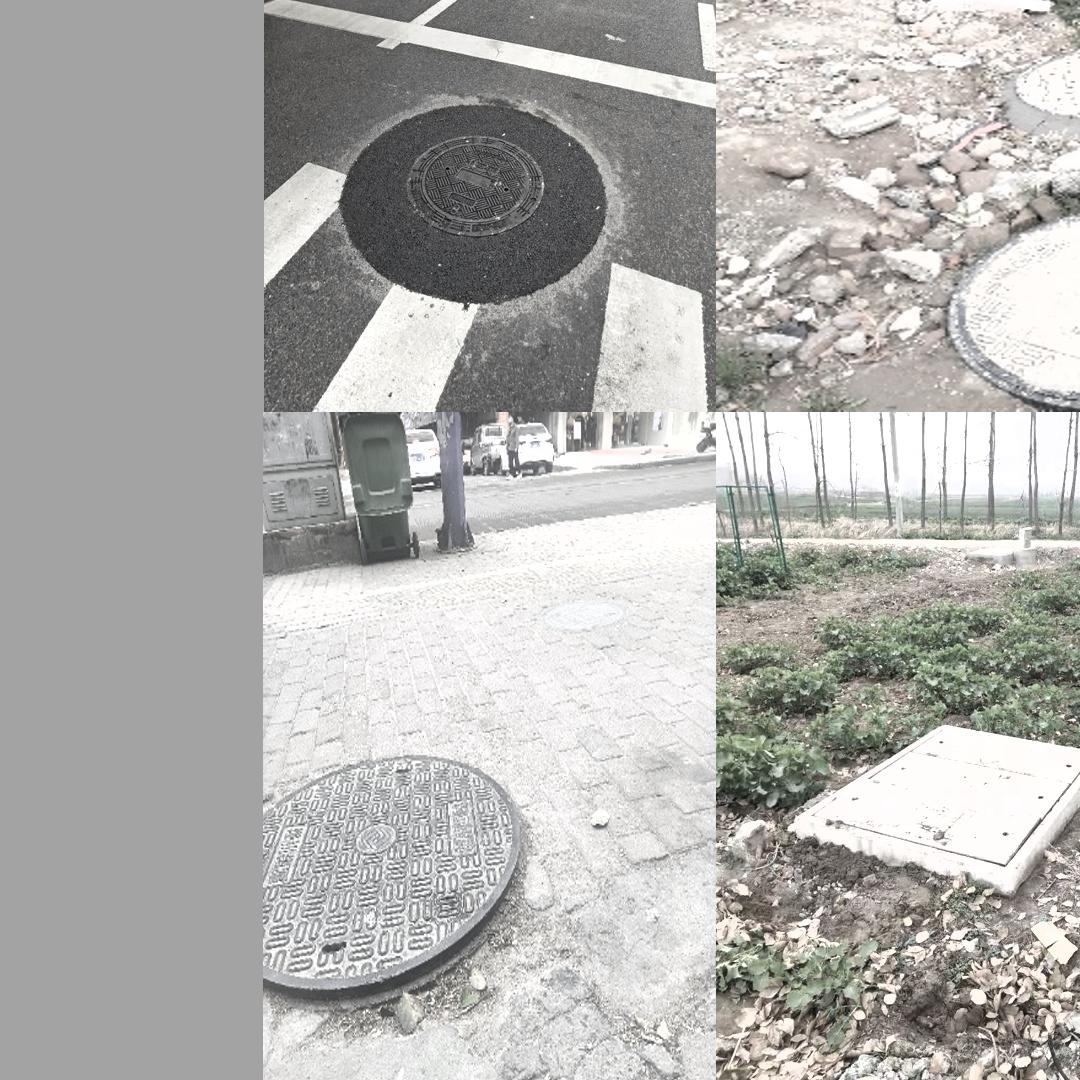good: (338, 81, 623, 319), (263, 753, 522, 1011), (788, 714, 1080, 874), (947, 205, 1080, 412), (1013, 45, 1080, 116)
